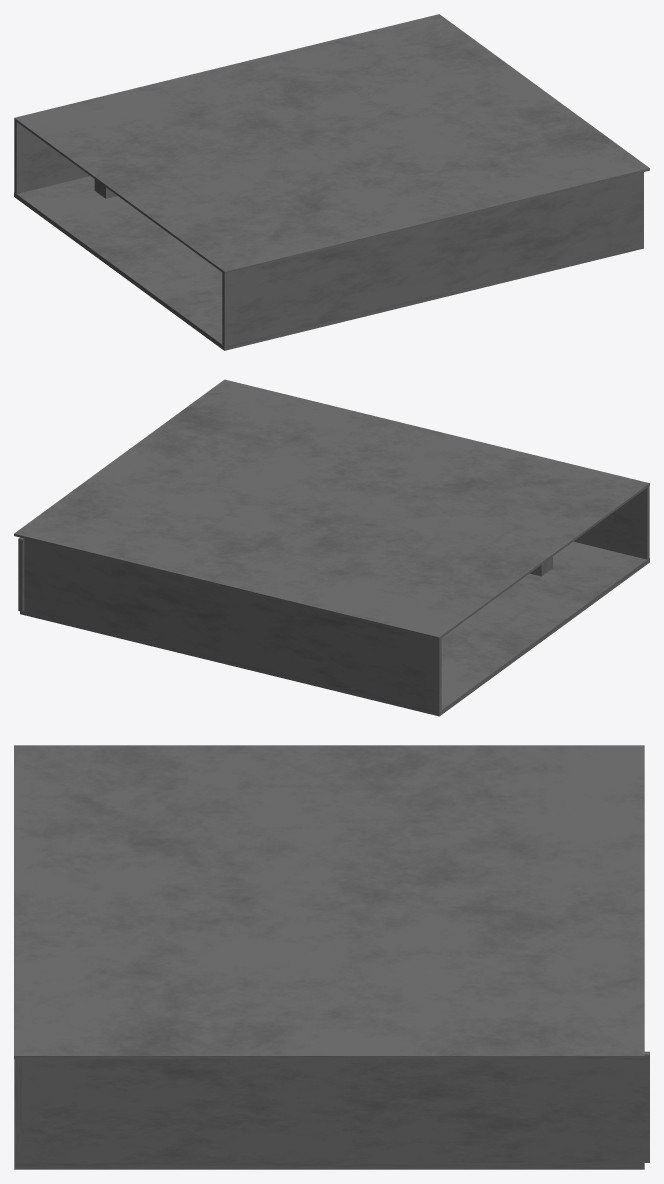
File: Frame 22. Ramp crossing between architectural layers of conflicting age.fbx
3 views of the same model, one above another, from view 1: azimuth 30°, elevation 25°; view 2: azimuth 150°, elevation 25°; view 3: azimuth 270°, elevation 25° (orthographic). The views are drawn at different scales.
Parts seen in each view (by area): view 1: Cube.100, Cube.114, Cube.079, Cube.113; view 2: Cube.100, Cube.113, Cube.079, Cube.114, Cube.115; view 3: Cube.100, Cube.115, Cube.079, Cube.114.
Boxes of the visible parts, x1,y1,x2,y2 form: Cube.100: (14,14,649,273); Cube.114: (222,172,643,346); Cube.079: (14,176,643,350); Cube.113: (14,120,89,193); Cube.100: (14,379,649,639); Cube.113: (24,538,441,711); Cube.079: (20,541,649,716); Cube.114: (574,486,649,559); Cube.115: (18,537,24,611); Cube.100: (14,745,644,1059); Cube.115: (22,1051,649,1162); Cube.079: (14,1163,644,1169); Cube.114: (14,1059,21,1162).
Size of the model in its own units: 19633 by 3484 by 16977.
Materials: 2 (1 with a texture image).
